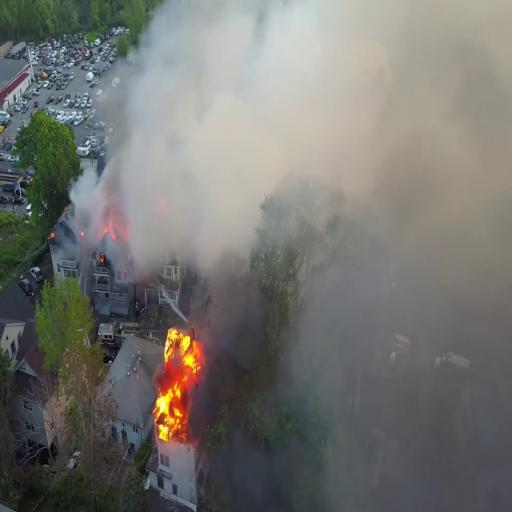fire: (160, 336, 190, 455)
smoke: (233, 170, 327, 434)
